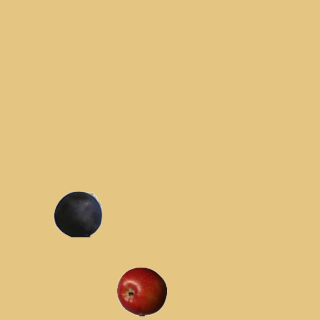Apple Braeburn: (116, 266, 166, 316)
Grape Blue: (52, 188, 102, 238)
